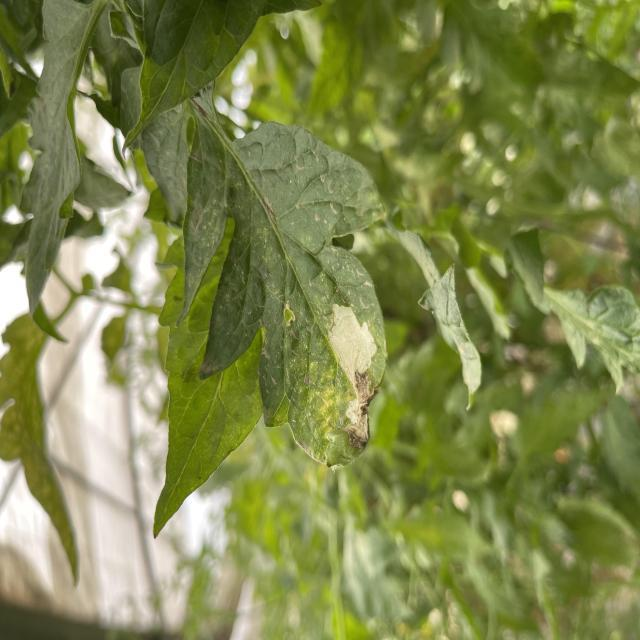Tuta absoluta: (321, 297, 395, 439)
